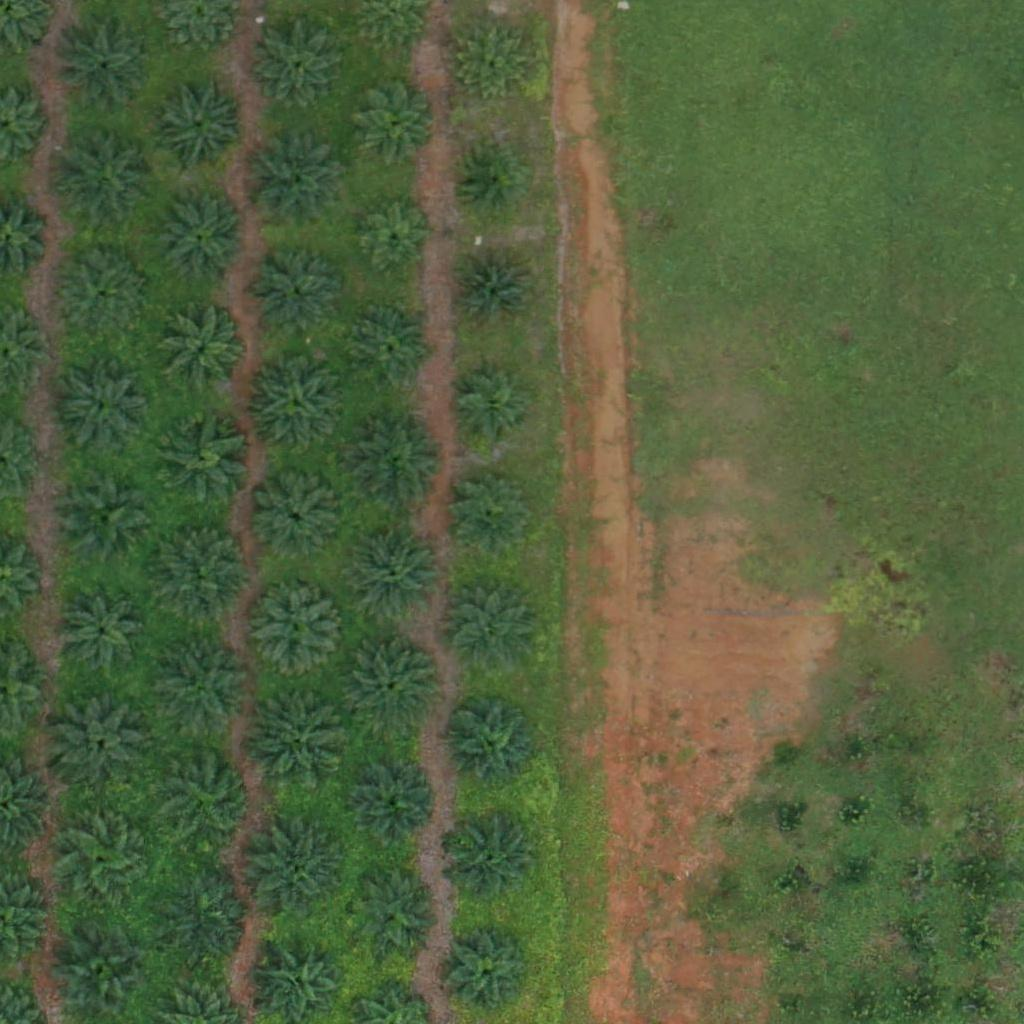Kelapa_Sawit: (242, 132, 342, 233), (147, 73, 247, 174), (53, 13, 153, 114), (56, 466, 156, 567), (151, 519, 251, 620), (156, 640, 256, 741), (247, 579, 347, 680), (246, 690, 346, 791), (247, 823, 347, 924), (349, 524, 449, 625), (342, 635, 442, 736), (441, 694, 541, 795), (345, 413, 445, 513), (245, 352, 345, 452), (151, 409, 251, 509), (56, 129, 156, 229), (51, 356, 151, 456), (50, 688, 150, 788), (159, 749, 259, 849), (158, 869, 258, 969), (253, 475, 341, 564), (447, 368, 535, 456), (350, 305, 438, 393), (252, 24, 340, 112), (251, 249, 339, 337), (58, 589, 146, 677), (57, 811, 145, 899), (60, 930, 148, 1018), (347, 759, 435, 847), (449, 815, 537, 903), (445, 929, 533, 1017), (348, 77, 435, 165), (451, 249, 538, 337), (156, 197, 243, 285), (159, 308, 246, 396), (59, 257, 146, 345), (351, 871, 438, 959), (447, 469, 534, 557), (447, 584, 534, 672), (359, 203, 434, 278), (451, 24, 526, 99), (456, 147, 519, 210)
